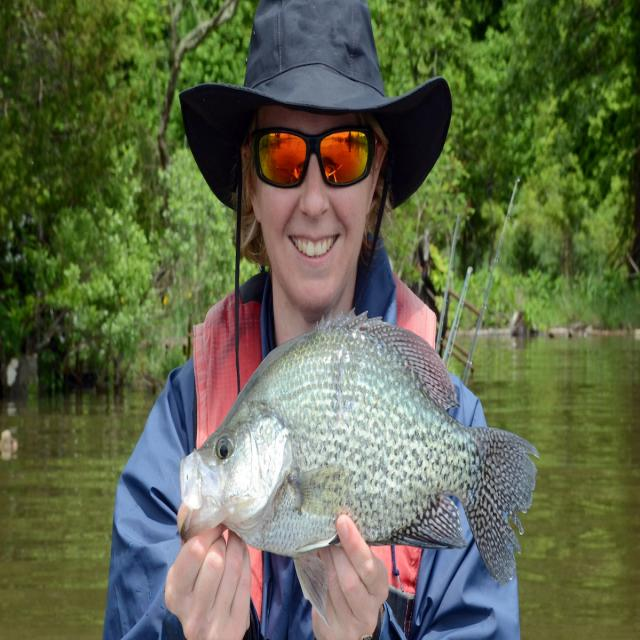Crappie - Black: (180, 312, 538, 618)
